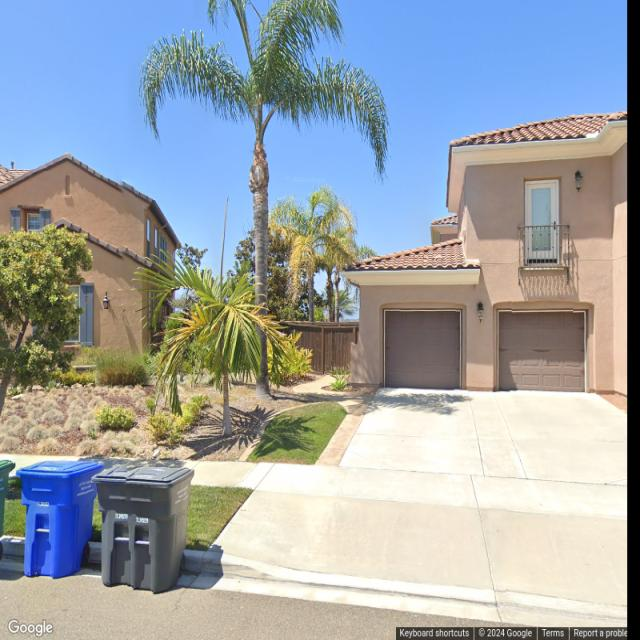House: (351, 105, 628, 388), (0, 156, 182, 372)
